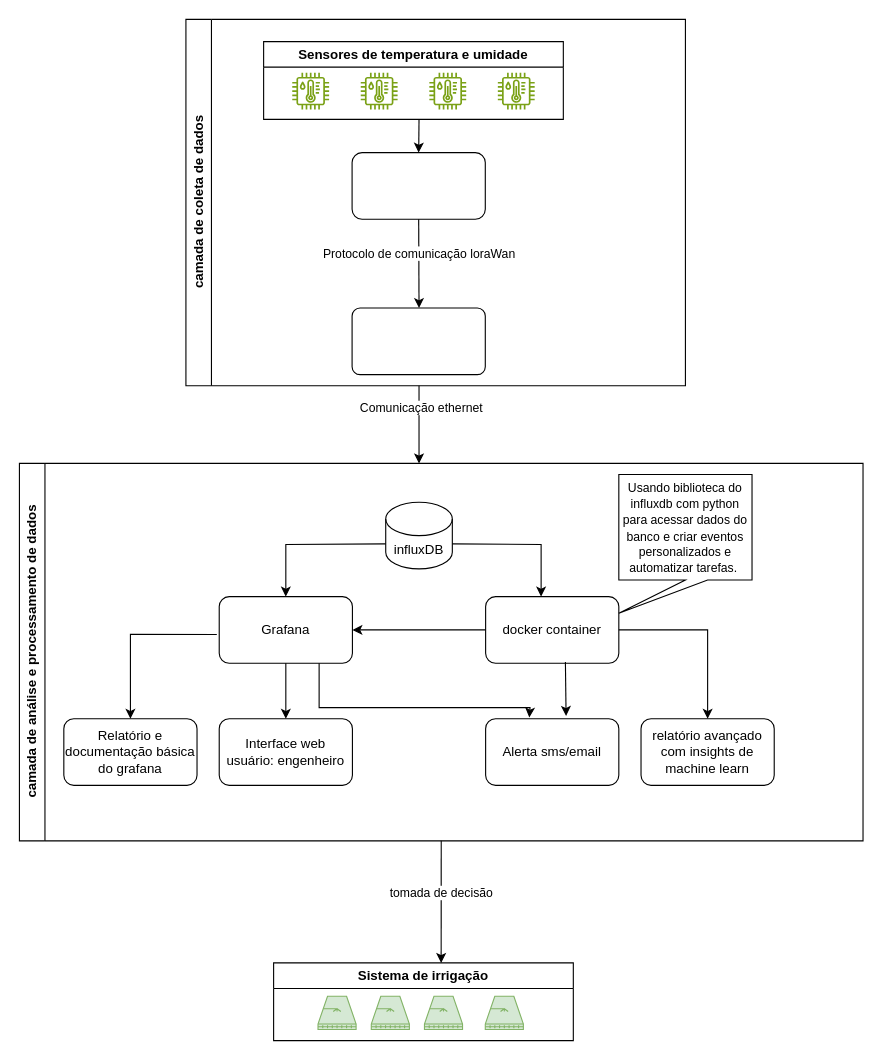
Image size: 882x1060. Some labels were removed from this diagram. The shapes that lost their labels are listed below. From the top down, each one's centre as x and y in pixels, then its label:
At pixel 418 185: "Arduino".
At pixel 418 341: "Gateway".
